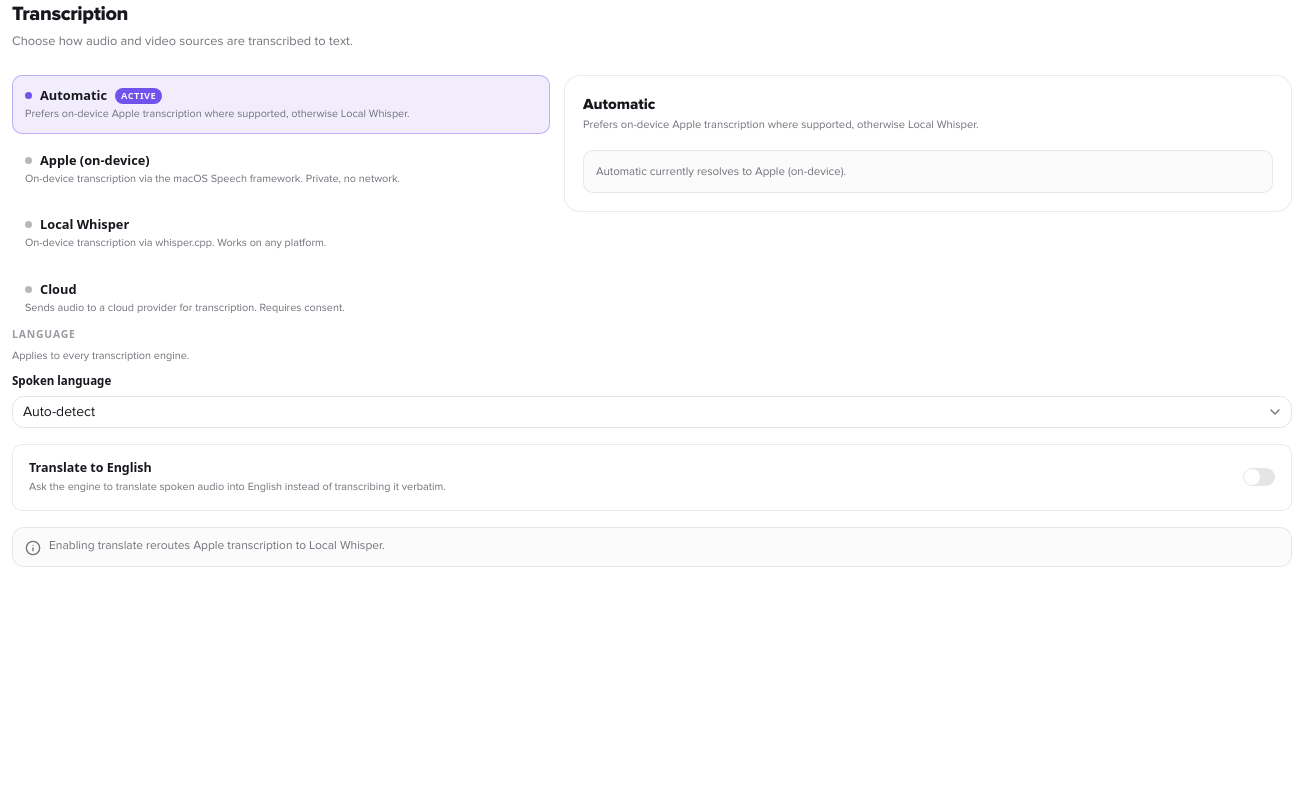
Test case: TranscriptionSection — the resolved engine is re-read after router inputs change › re-asks the router when Translate is toggled
Expected: the text "Automatic currently resolves to Apple (on-device)." is shown, top-left (596, 164), bottom-right (846, 178)
Click the switch named "translate to english": [1259, 477] box top-left (1243, 468), bottom-right (1275, 486)
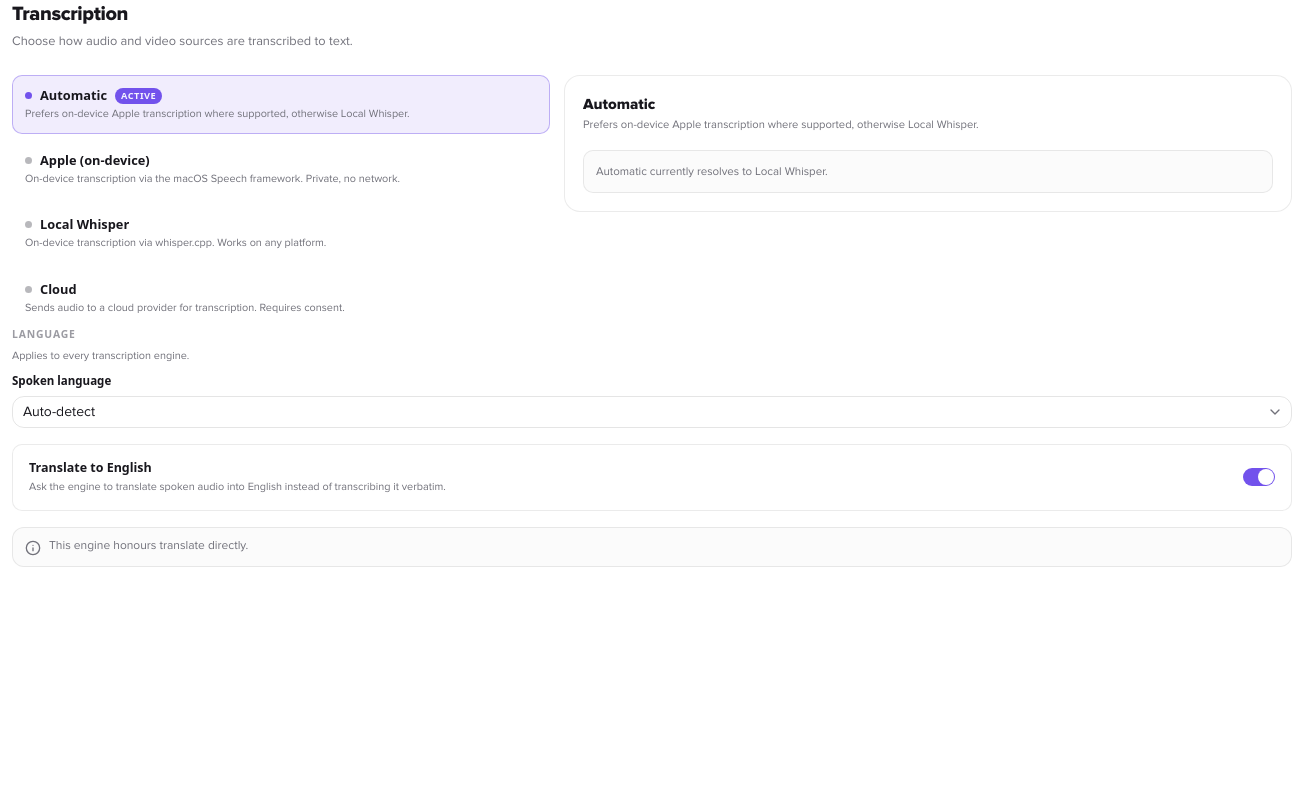
Result: the text "Automatic currently resolves to Local Whisper." is shown at top-left (596, 164), bottom-right (828, 178)
Result: the text "currently resolves to Apple" is gone
